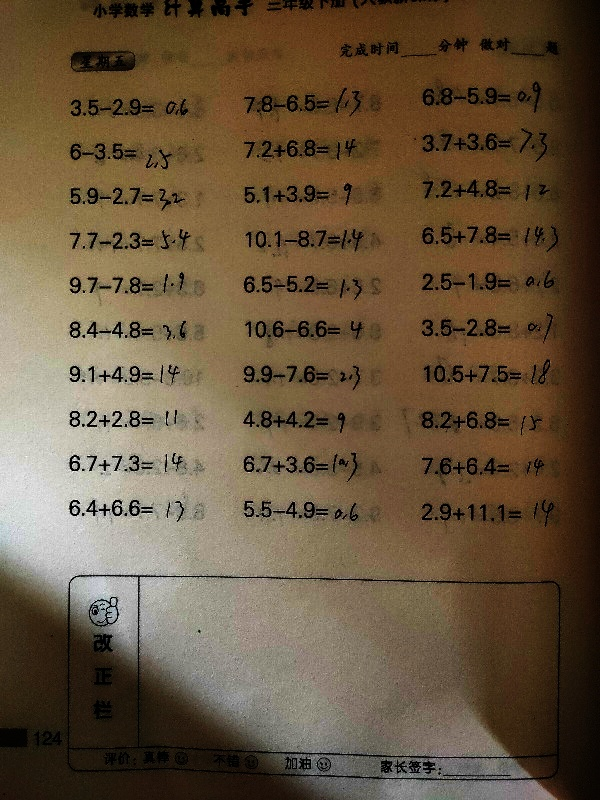equation: (416, 211, 568, 264), (52, 267, 209, 312), (416, 492, 560, 539), (233, 441, 376, 488), (413, 164, 565, 208), (416, 308, 563, 351), (417, 443, 555, 487), (53, 176, 201, 216), (409, 72, 556, 111), (232, 495, 368, 537), (409, 356, 563, 393), (63, 132, 189, 176), (231, 309, 385, 344), (55, 219, 200, 256), (235, 264, 369, 304), (408, 267, 565, 301), (236, 215, 364, 256), (229, 401, 363, 440), (235, 87, 377, 123), (415, 407, 556, 440), (237, 132, 369, 167), (413, 129, 559, 159), (241, 180, 380, 209), (240, 361, 364, 393), (65, 495, 201, 524), (65, 450, 190, 476), (65, 317, 189, 343), (66, 94, 191, 119), (66, 361, 184, 387), (65, 407, 180, 431)
